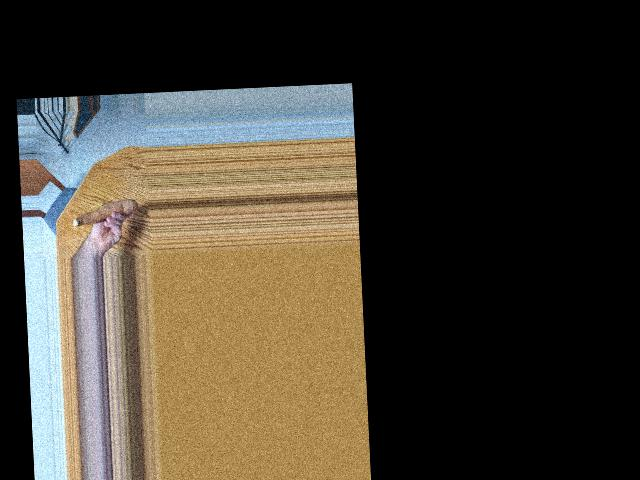sweet_potato: (70, 195, 135, 228)
